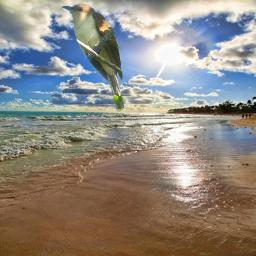Cuckoo: (58, 2, 127, 115)
